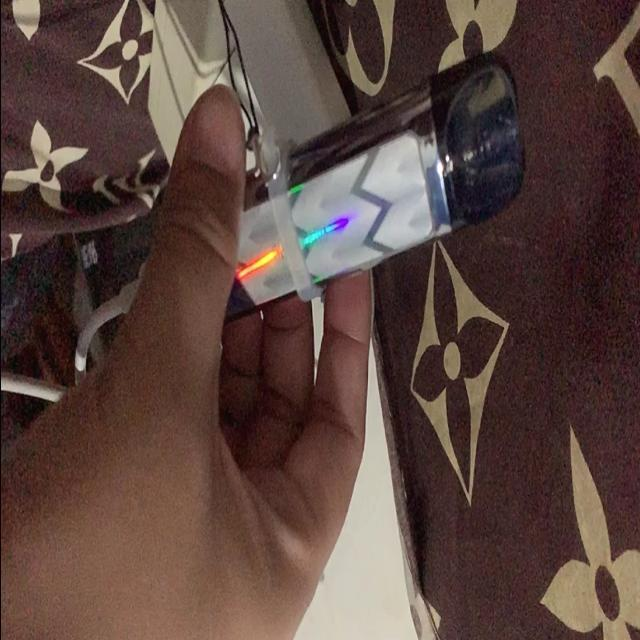Hazard: (228, 56, 522, 315)
